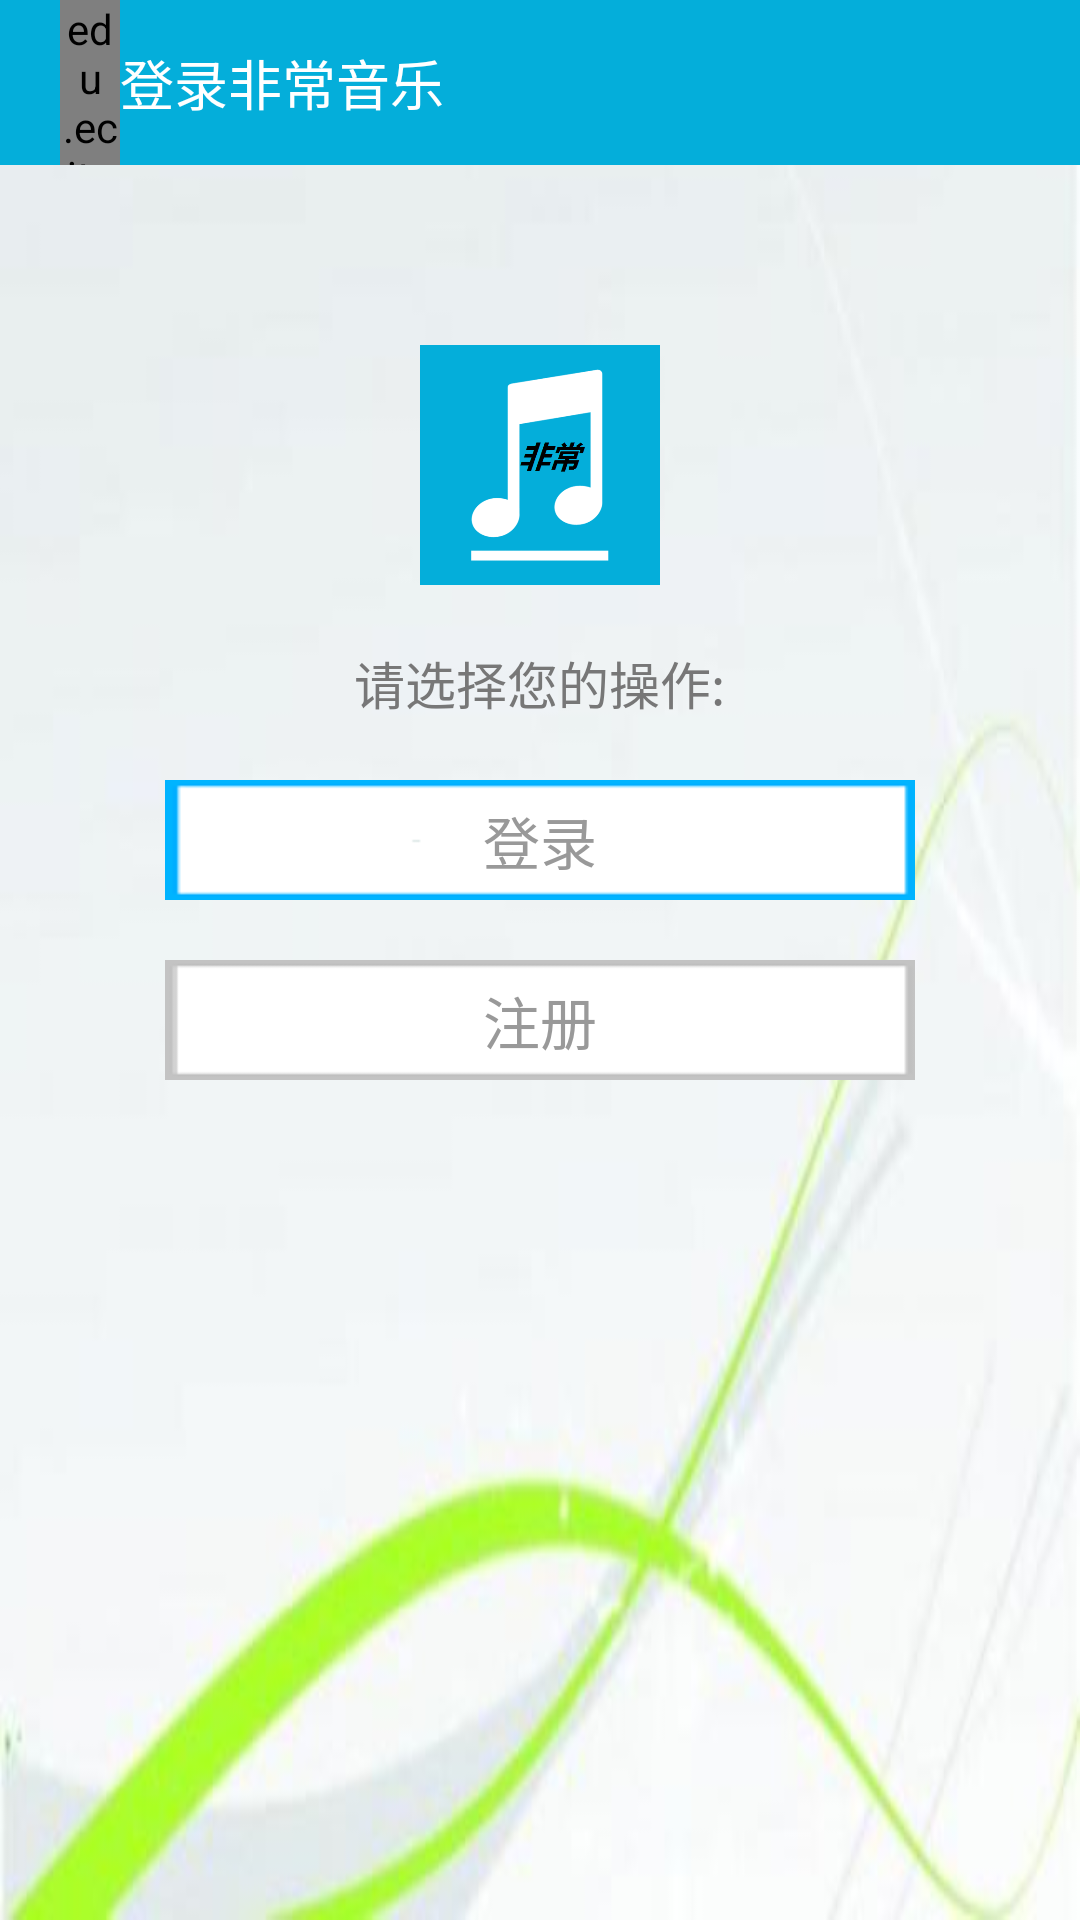

Locate icon controls on the screen. Image size 1080×1920, boxes as (x1, y1, x2, y2).
app: (420, 345, 660, 585)
